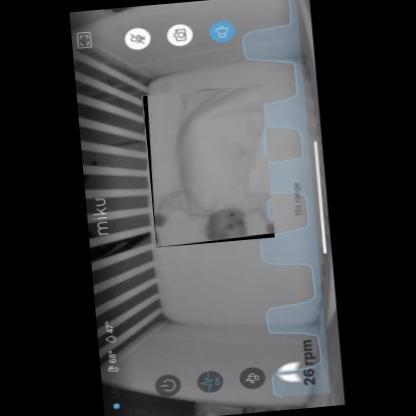baby: (154, 90, 274, 242)
